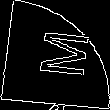M_W: (24, 29, 86, 81)
